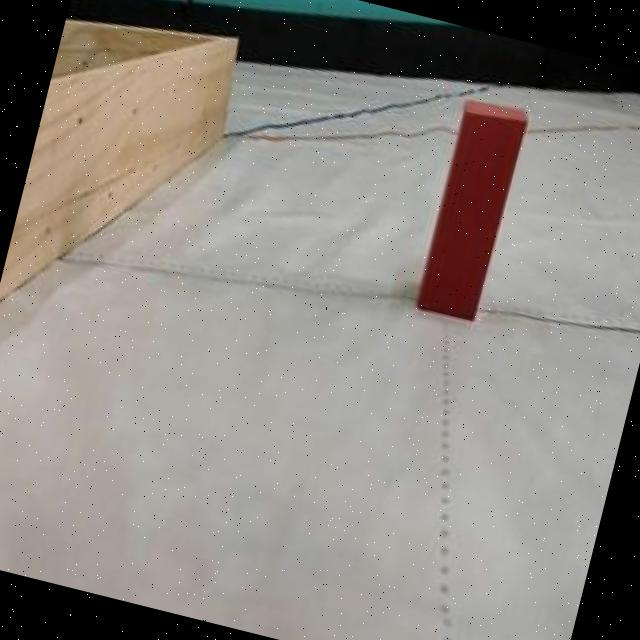redbox: (414, 95, 532, 325)
